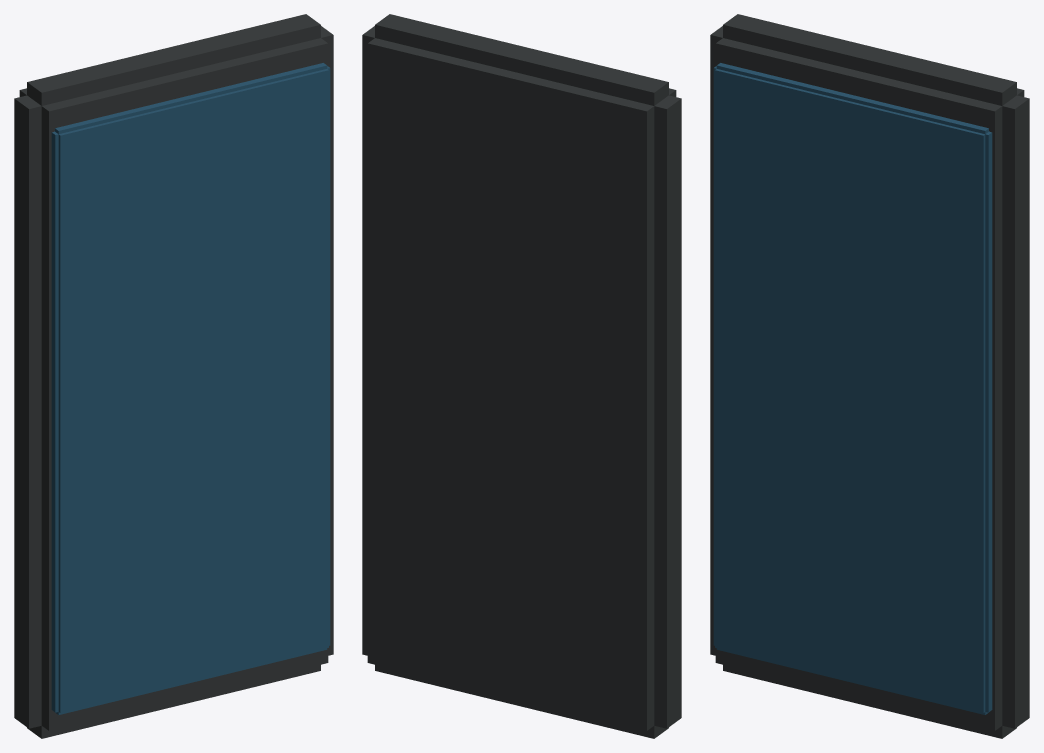
File: sku_phone.glb
3 renders of one model, left to right at view 1: azimuth 30°, elevation 25°; view 2: azimuth 150°, elevation 25°; view 3: azimuth 330°, elevation 25°, orthographic.
Parts seen in each view (by area): view 1: sku_phone_FY21_display_screen, sku_phone_Anodised_graphite; view 2: sku_phone_Anodised_graphite; view 3: sku_phone_FY21_display_screen, sku_phone_Anodised_graphite.
Boxes of the visible parts, bbox=[...] form: sku_phone_FY21_display_screen: bbox=[51, 63, 330, 714]; sku_phone_Anodised_graphite: bbox=[14, 14, 333, 738]; sku_phone_Anodised_graphite: bbox=[362, 14, 681, 738]; sku_phone_FY21_display_screen: bbox=[713, 63, 992, 714]; sku_phone_Anodised_graphite: bbox=[710, 14, 1029, 738].
Size of the model in its own units: 0.072 by 0.146 by 0.0145.
